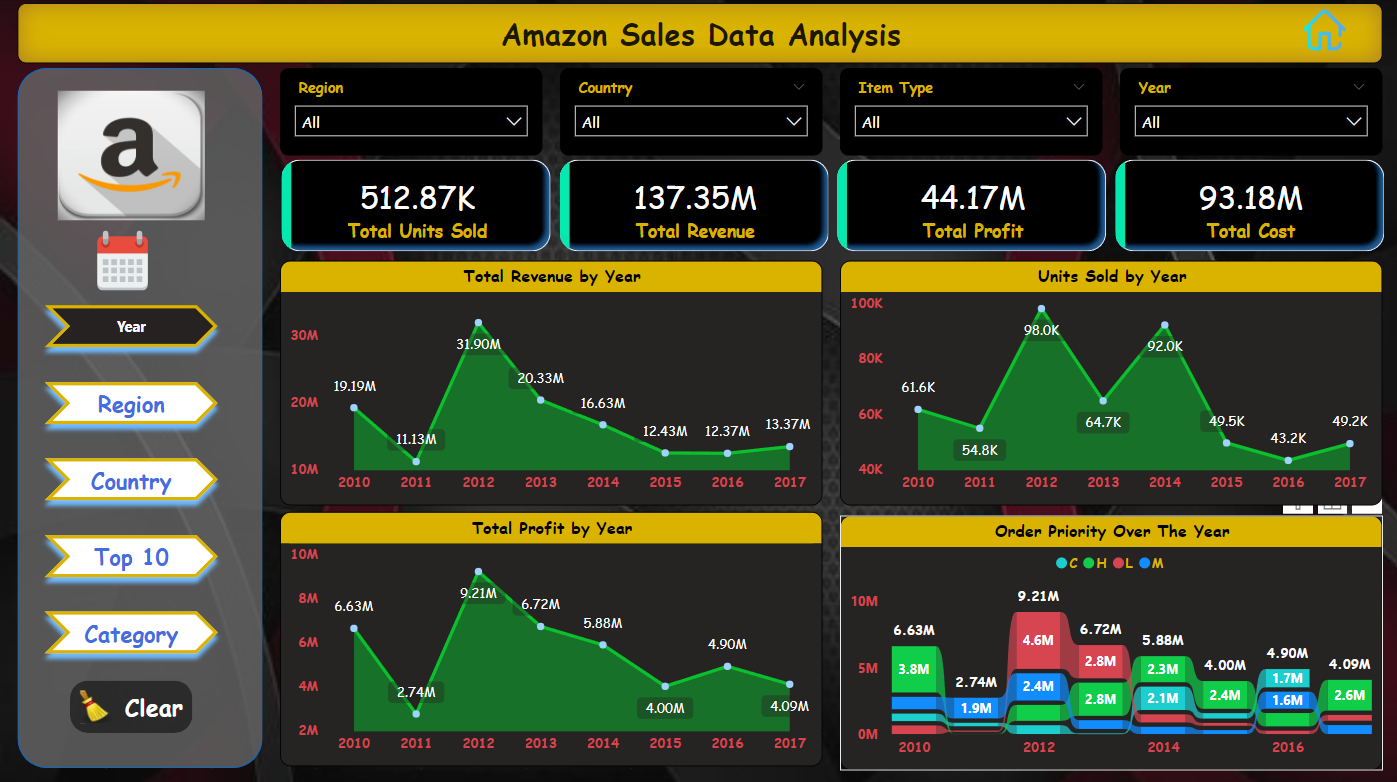

The dashboard page shown, as its layout file describes it:
{"tool":"powerbi","page":{"name":"Year","canvas":[1280,720],"ordinal":1},"visuals":[{"type":"textbox","box":[16,4,1248,55],"z":0},{"type":"shape","box":[16,64,224,640],"z":1000},{"type":"cardVisual","fields":{"Data":["Sum(Amazon Sales Records (2).Units Sold)","Sum(Amazon Sales Records (2).Total Revenue)","Sum(Amazon Sales Records (2).Total Profit)","Count(Amazon Sales Records (2).Order ID)","Count(Amazon Sales Records (2).Item Type)"]},"box":[252,143,1018,94],"z":2000},{"type":"areaChart","title":" Total Revenue by Year","fields":{"Category":["Amazon Sales Records (2).Order_Date.Variation.Date Hierarchy.Year","Amazon Sales Records (2).Order_Date.Variation.Date Hierarchy.Quarter","Amazon Sales Records (2).Order_Date.Variation.Date Hierarchy.Month","Amazon Sales Records (2).Order_Date.Variation.Date Hierarchy.Day"],"Y":["Sum(Amazon Sales Records (2).Total Revenue)"]},"box":[256,240,496,224],"z":3000},{"type":"areaChart","title":" Total Profit by Year","fields":{"Category":["Amazon Sales Records (2).Order_Date.Variation.Date Hierarchy.Year","Amazon Sales Records (2).Order_Date.Variation.Date Hierarchy.Quarter","Amazon Sales Records (2).Order_Date.Variation.Date Hierarchy.Month","Amazon Sales Records (2).Order_Date.Variation.Date Hierarchy.Day"],"Y":["Sum(Amazon Sales Records (2).Total Profit)"]},"box":[256,470,496,233],"z":4000},{"type":"slicer","fields":{"Values":["Amazon Sales Records (2).Country"]},"box":[512,64,240,80],"z":5000},{"type":"slicer","fields":{"Values":["Amazon Sales Records (2).Item Type"]},"box":[768,64,240,80],"z":6000},{"type":"slicer","fields":{"Values":["Amazon Sales Records (2).Order_Date.Variation.Date Hierarchy.Year"]},"box":[1024,64,240,80],"z":7000},{"type":"slicer","fields":{"Values":["Amazon Sales Records (2).Region"]},"box":[256,64,240,80],"z":8000},{"type":"image","box":[48,80,144,128],"z":9000},{"type":"ribbonChart","title":"Order Priority Over The Year","fields":{"Category":["Amazon Sales Records (2).Order_Date.Variation.Date Hierarchy.Year"],"Y":["Sum(Amazon Sales Records (2).Total Profit)"],"Series":["Amazon Sales Records (2).Order Priority"]},"box":[768,473,496,233],"z":10000},{"type":"areaChart","title":"Units Sold by Year","fields":{"Category":["Amazon Sales Records (2).Order_Date.Variation.Date Hierarchy.Year","Amazon Sales Records (2).Order_Date.Variation.Date Hierarchy.Quarter","Amazon Sales Records (2).Order_Date.Variation.Date Hierarchy.Month","Amazon Sales Records (2).Order_Date.Variation.Date Hierarchy.Day"],"Y":["Sum(Amazon Sales Records (2).Units Sold)"]},"box":[768,240,496,224],"z":11000},{"type":"actionButton","title":"Clear","box":[64,624,112,48],"z":12000},{"type":"pageNavigator","box":[32,272,176,336],"z":13000},{"type":"actionButton","box":[1161,6,100,47],"z":14000},{"type":"image","box":[80,208,64,64],"z":15000}]}

Visuals, with their boxes in screenshot pixels (x1, y1, x2, y2), scaled from the page's 1280x720 canvas onto the 1397x782 screenshot:
textbox: [17,4,1380,64]
shape: [17,70,262,765]
cardVisual - Sum(Amazon Sales Records (2).Units Sold) x Sum(Amazon Sales Records (2).Total Revenue): [275,155,1386,257]
" Total Revenue by Year" areaChart: [279,261,821,504]
" Total Profit by Year" areaChart: [279,510,821,764]
slicer - Amazon Sales Records (2).Country: [559,70,821,156]
slicer - Amazon Sales Records (2).Item Type: [838,70,1100,156]
slicer - Amazon Sales Records (2).Order_Date.Variation.Date Hierarchy.Year: [1118,70,1380,156]
slicer - Amazon Sales Records (2).Region: [279,70,541,156]
image: [52,87,210,226]
"Order Priority Over The Year" ribbonChart: [838,514,1380,767]
"Units Sold by Year" areaChart: [838,261,1380,504]
"Clear" actionButton: [70,678,192,730]
pageNavigator: [35,295,227,660]
actionButton: [1267,7,1376,58]
image: [87,226,157,295]
